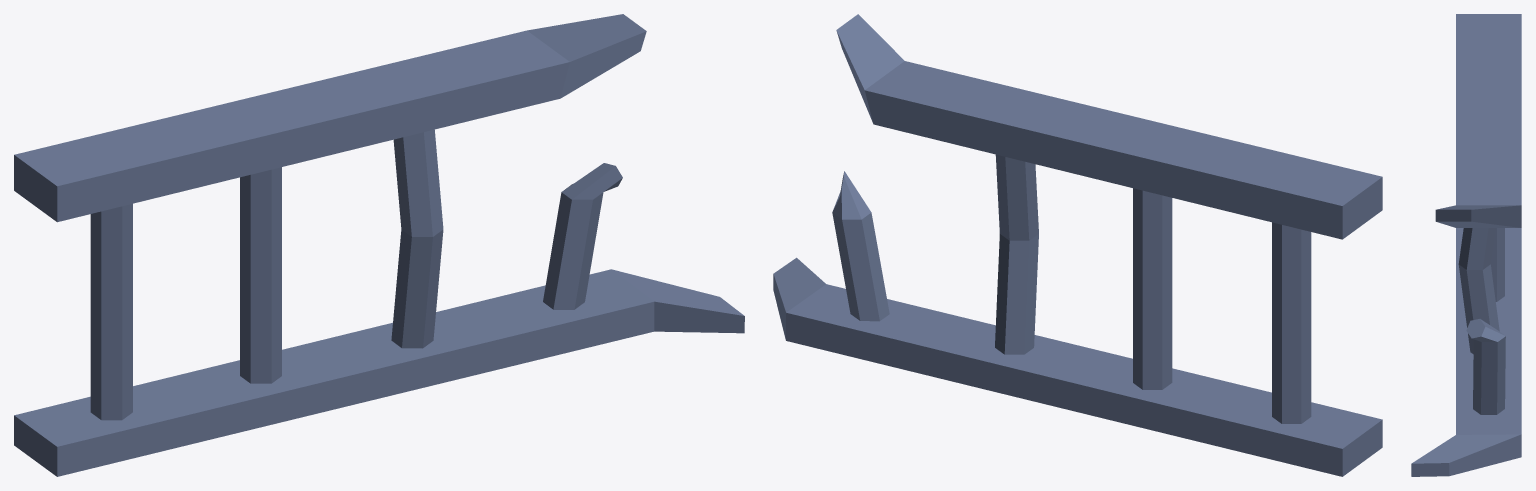
File: damaged-railing-left.glb
3 views of the same model, side by side, from view 1: azimuth 30°, elevation 25°; view 2: azimuth 150°, elevation 25°; view 3: azimuth 270°, elevation 25° (orthographic). The views are drawn at different scales.
Visible parts, largest first — view 1: damaged railing left; view 2: damaged railing left; view 3: damaged railing left.
Part boxes in pixels (x1=…): damaged railing left: x1=14, y1=14, x2=744, y2=476; damaged railing left: x1=773, y1=14, x2=1382, y2=476; damaged railing left: x1=1411, y1=14, x2=1521, y2=476.
Size of the model in its own units: 2 by 0.9156 by 0.3818.
